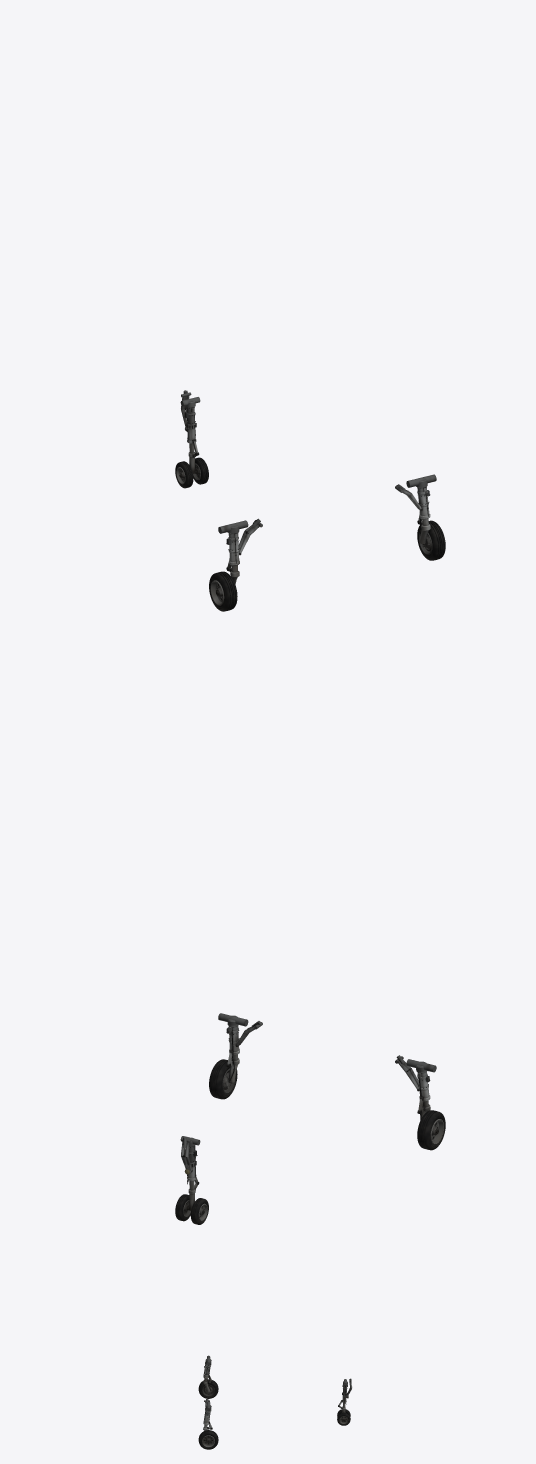
Rendered from f100_gear.glb.
3 views of the same model, one above another, from view 1: azimuth 30°, elevation 25°; view 2: azimuth 150°, elevation 25°; view 3: azimuth 270°, elevation 25° (orthographic). The views are drawn at different scales.
Parts seen in each view (by area): view 1: gear_n, gear_w_l, gear_m_r, gear_w_r, gear_m_l; view 2: gear_n, gear_w_l, gear_m_r, gear_w_r, gear_m_l; view 3: gear_n, gear_w_r, gear_w_l.
Boxes of the visible parts, x1,y1,x2,y2 form: gear_n: [175, 397, 208, 488]; gear_w_l: [209, 571, 237, 611]; gear_m_r: [406, 474, 436, 543]; gear_w_r: [417, 520, 445, 560]; gear_m_l: [218, 520, 248, 584]; gear_n: [175, 1136, 208, 1224]; gear_w_l: [417, 1110, 445, 1150]; gear_m_r: [218, 1013, 248, 1082]; gear_w_r: [209, 1059, 237, 1099]; gear_m_l: [406, 1059, 436, 1120]; gear_n: [337, 1379, 350, 1425]; gear_w_r: [198, 1430, 218, 1449]; gear_w_l: [198, 1379, 218, 1398].
Size of the model in its own units: 4 by 5.87 by 15.89.
1 material, 1 textured.
